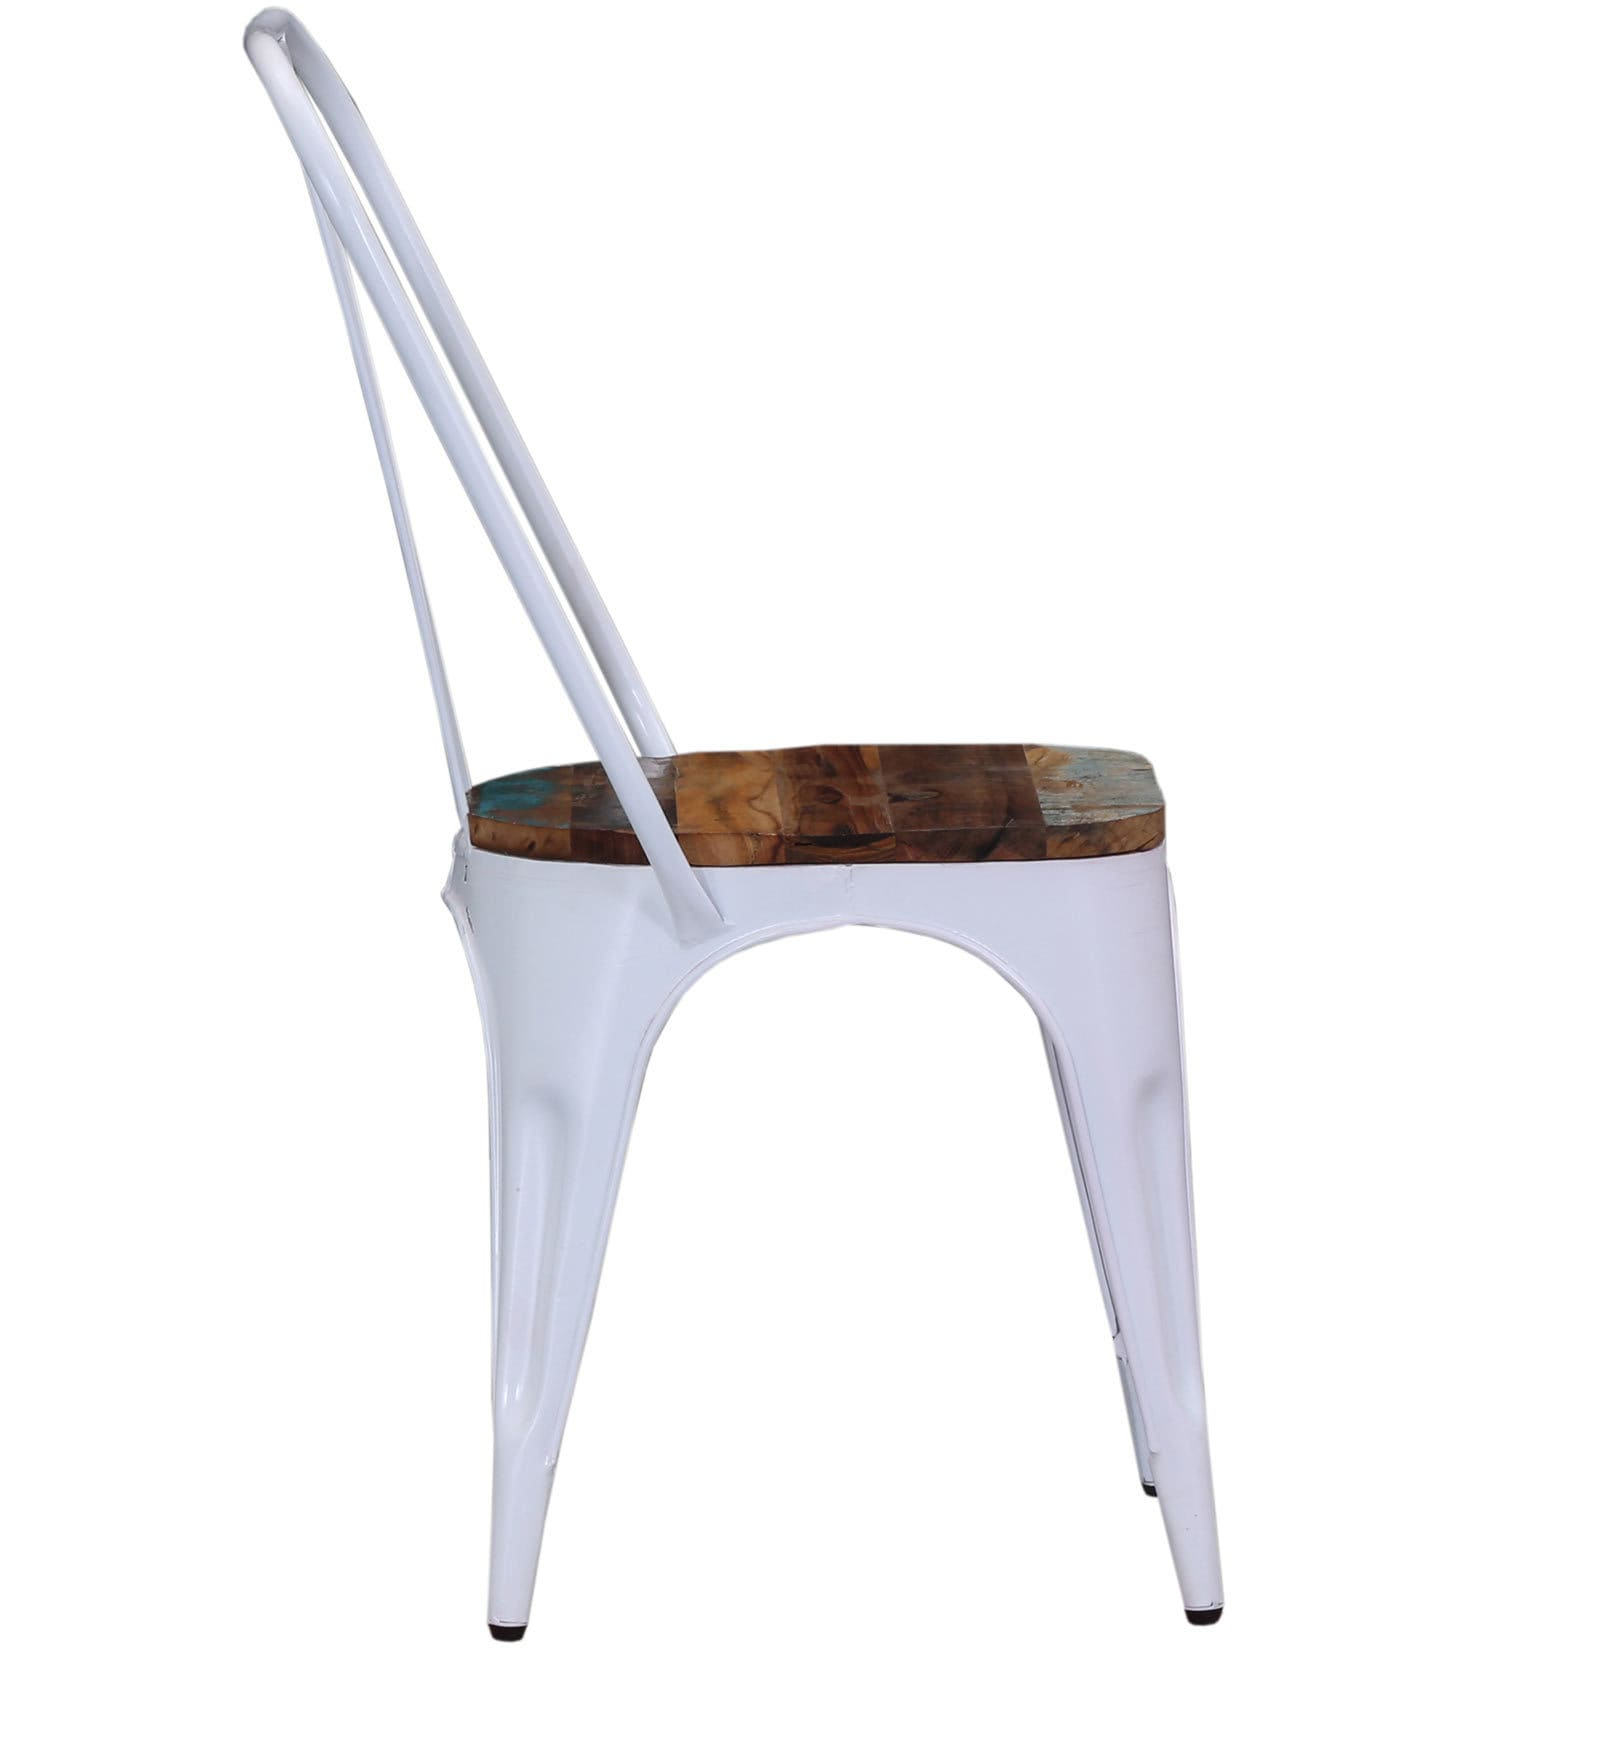Ekati Metal Chair in White Color with Wooden Seat by Bohemiana: (187, 9, 1277, 1674)
